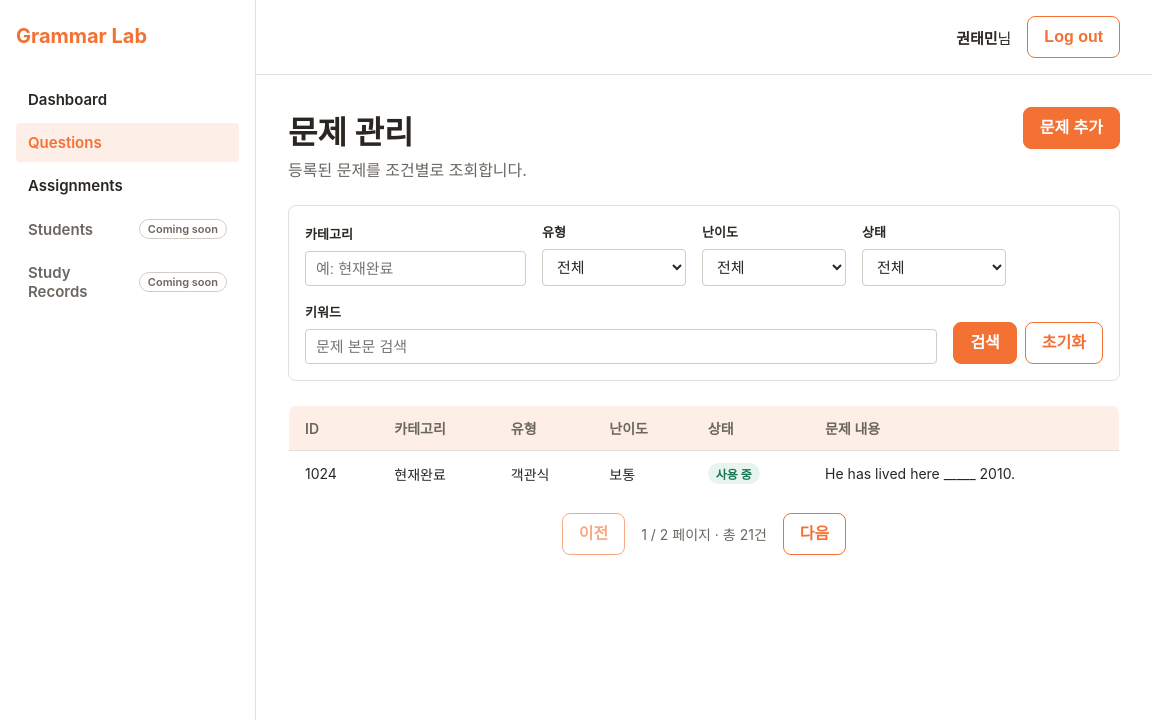
it: QuestionListPage › paginates using backend page metadata, disabling controls at the bounds
expect the link "He has lived here _____ 2010." is shown: met, box left=825, top=465, right=1015, bottom=482
expect the button "이전" is disabled: met, box left=562, top=513, right=625, bottom=555
Click the button "다음" at (815, 534), box left=783, top=513, right=846, bottom=555
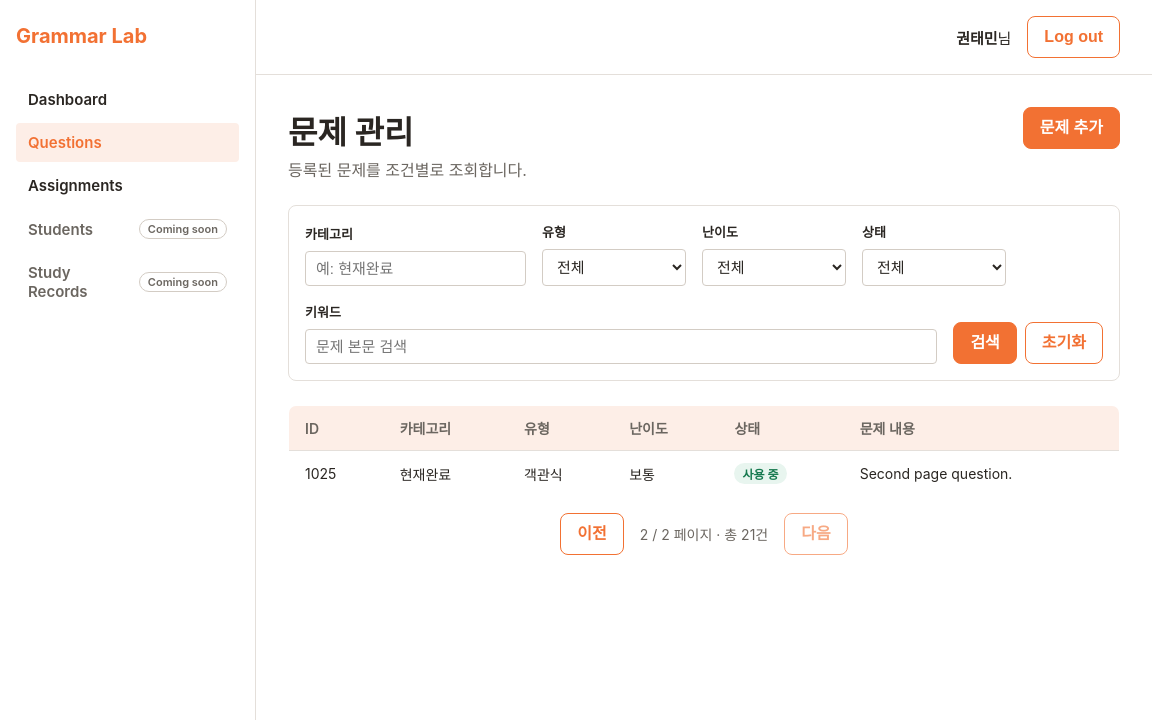
expect the link "Second page question." is shown: met, box left=860, top=465, right=1012, bottom=482
expect the button "이전" is enabled: met, box left=560, top=513, right=624, bottom=555
expect the button "다음" is disabled: met, box left=784, top=513, right=848, bottom=555
